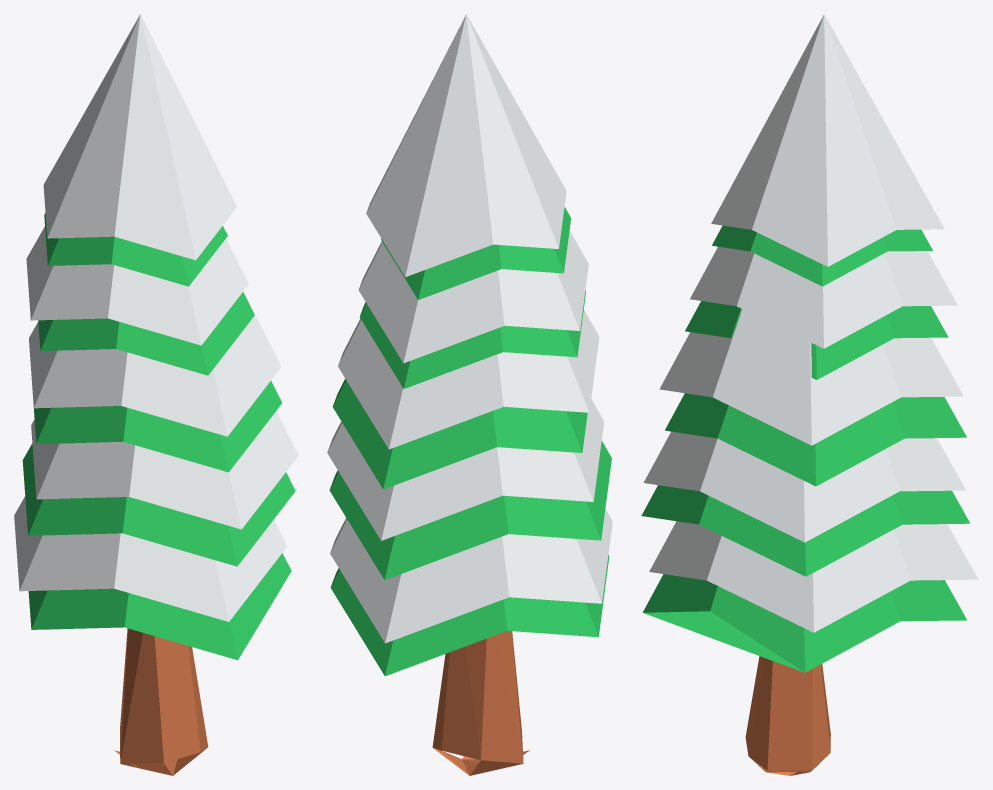
Rendered from tree11.gltf.
The picture shows the model from 3 angles, left to right: view 1: azimuth 30°, elevation 25°; view 2: azimuth 150°, elevation 25°; view 3: azimuth 270°, elevation 25°; orthographic projection. The views are drawn at different scales.
Parts seen in each view (by area): view 1: Cone, Cone.003, Cone.002, Cone.001, Cone.005, Cone.006, Cube.001, Cone.004, Cone.007, Cone.008, Cone.009; view 2: Cone, Cone.001, Cone.003, Cone.005, Cone.002, Cone.006, Cone.007, Cube.001, Cone.004, Cone.008, Cone.009; view 3: Cone, Cone.003, Cone.001, Cone.002, Cone.005, Cone.004, Cone.007, Cone.006, Cube.001, Cone.008, Cone.009.
Boxes of the visible parts, bbox=[...] form: Cone: bbox=[43, 14, 236, 260]; Cone.003: bbox=[29, 291, 281, 436]; Cone.002: bbox=[31, 411, 298, 529]; Cone.001: bbox=[14, 496, 287, 621]; Cone.005: bbox=[26, 226, 248, 345]; Cone.006: bbox=[22, 444, 295, 566]; Cube.001: bbox=[114, 628, 208, 775]; Cone.004: bbox=[28, 553, 291, 660]; Cone.007: bbox=[34, 381, 282, 472]; Cone.008: bbox=[38, 292, 254, 375]; Cone.009: bbox=[44, 213, 227, 286]; Cone: bbox=[366, 14, 566, 277]; Cone.001: bbox=[330, 509, 612, 643]; Cone.003: bbox=[338, 309, 599, 449]; Cone.005: bbox=[358, 230, 588, 363]; Cone.002: bbox=[327, 399, 604, 540]; Cone.006: bbox=[329, 440, 611, 579]; Cone.007: bbox=[332, 378, 587, 489]; Cube.001: bbox=[432, 631, 529, 775]; Cone.004: bbox=[330, 555, 609, 676]; Cone.008: bbox=[359, 290, 585, 388]; Cone.009: bbox=[381, 207, 570, 299]; Cone: bbox=[711, 14, 944, 266]; Cone.003: bbox=[659, 309, 963, 445]; Cone.001: bbox=[649, 521, 978, 632]; Cone.002: bbox=[643, 431, 965, 542]; Cone.005: bbox=[690, 246, 957, 348]; Cone.004: bbox=[642, 574, 966, 672]; Cone.007: bbox=[665, 393, 966, 486]; Cone.006: bbox=[641, 485, 970, 576]; Cube.001: bbox=[745, 656, 830, 775]; Cone.008: bbox=[685, 301, 948, 379]; Cone.009: bbox=[712, 225, 932, 286].
Size of the model in its own units: 2.24 by 6 by 2.43.
